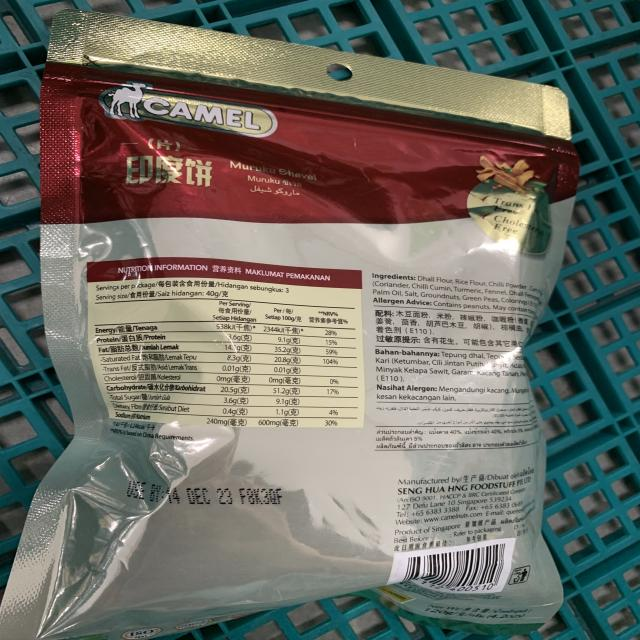object_name: (47, 13, 548, 630)
